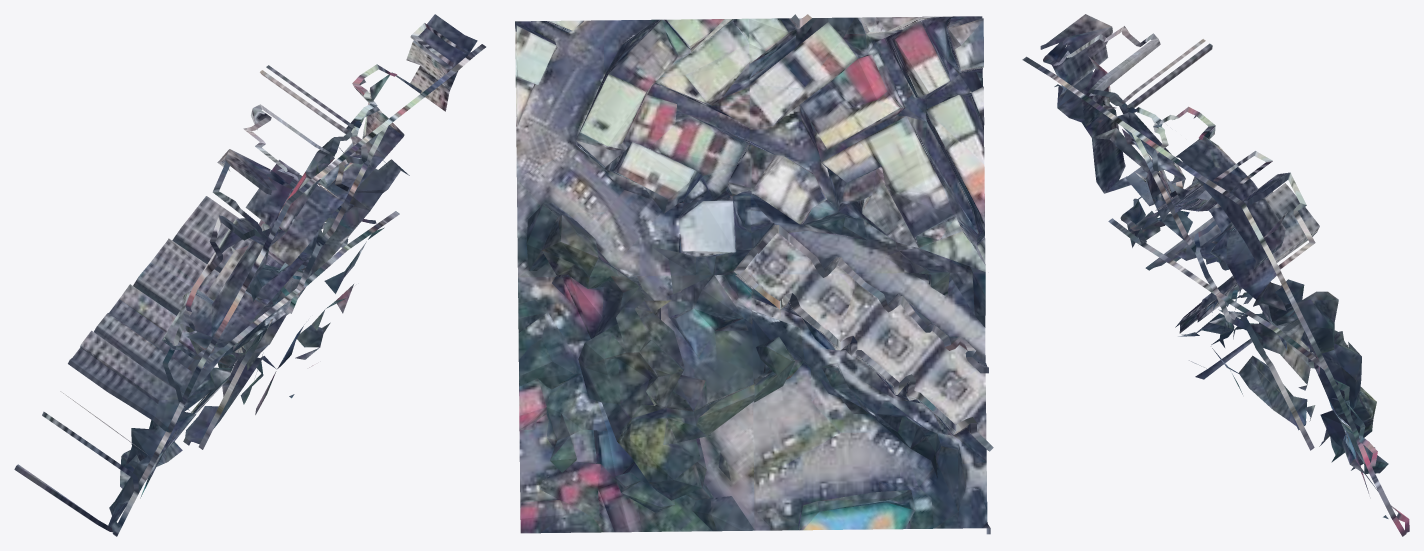
3 renders of one model, left to right at view 1: azimuth 30°, elevation 25°; view 2: azimuth 150°, elevation 25°; view 3: azimuth 270°, elevation 25°, orthographic. The views are drawn at different scales.
Size of the model in its own units: 172 by 157 by 130.
Materials: 1 (1 with a texture image).
